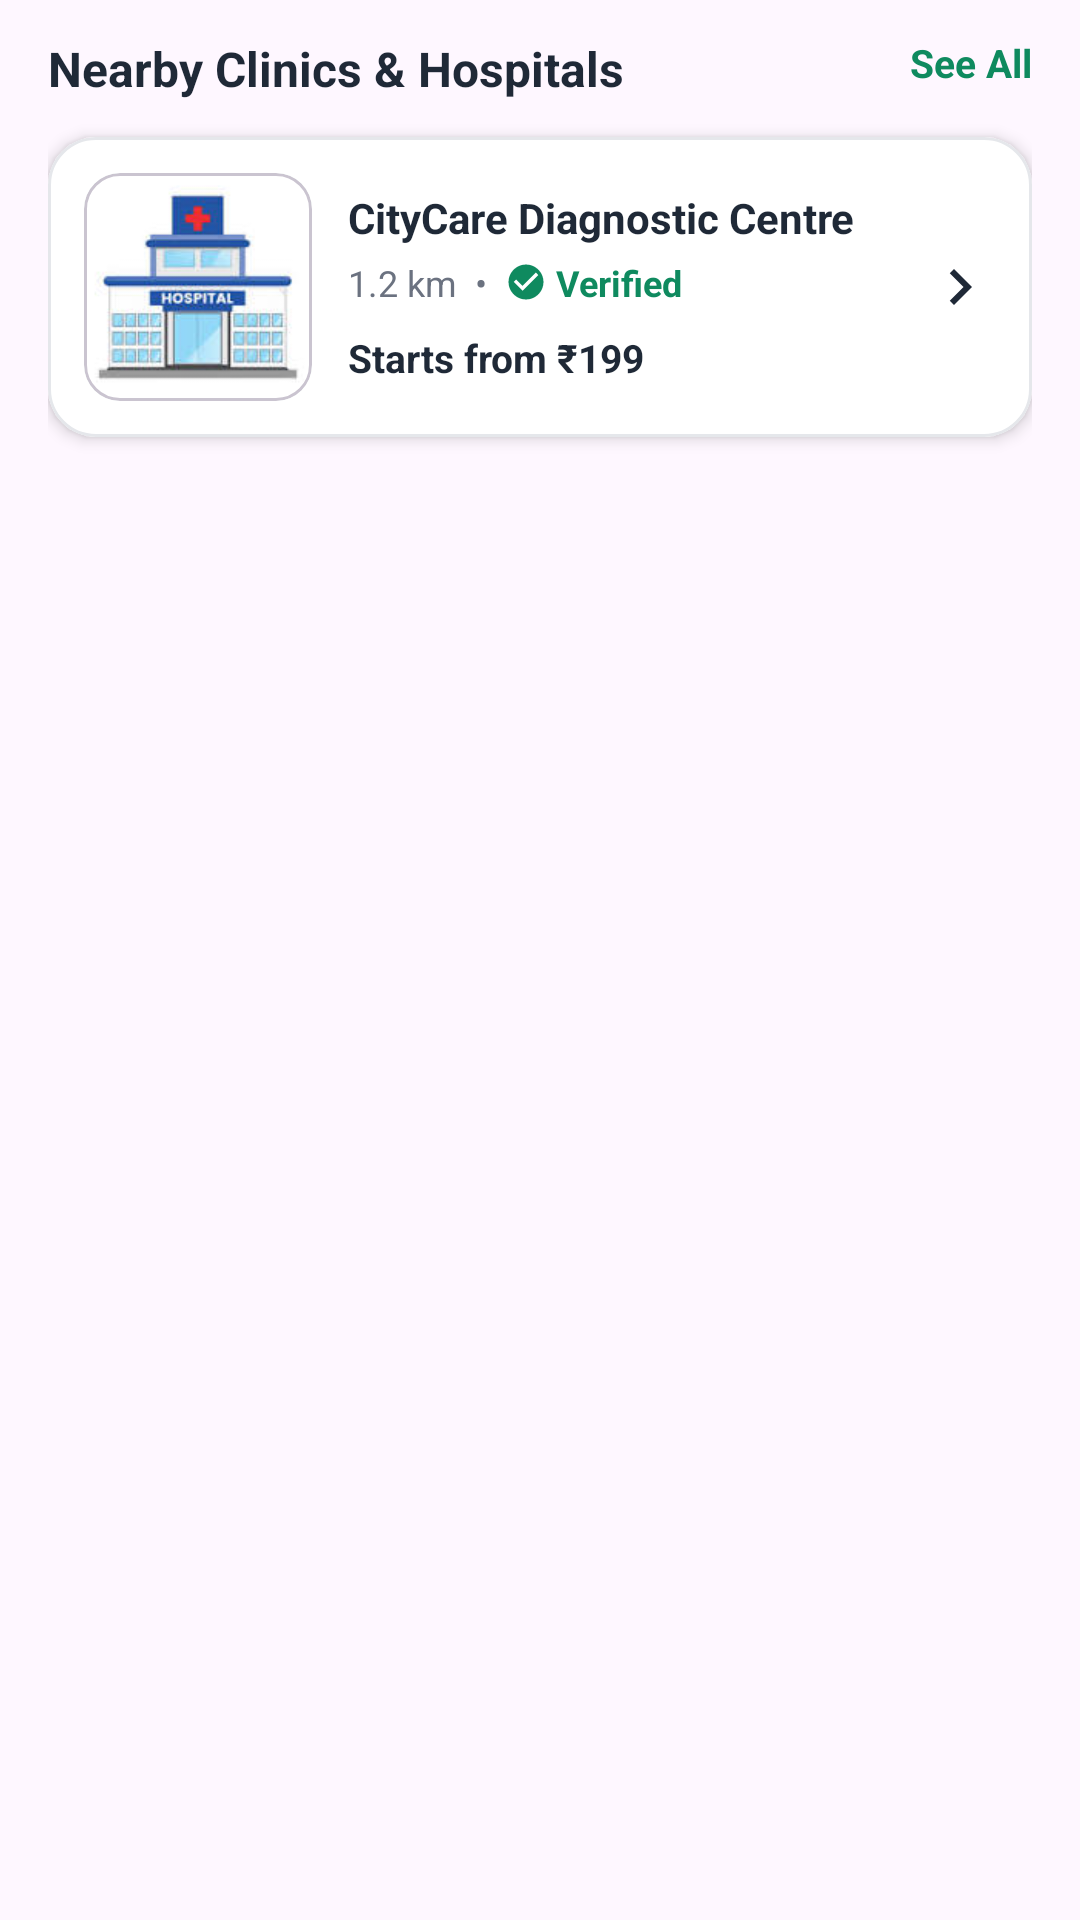

Icon bounding boxes for this 1080*1920 phone screenshot, format (x1, y1, x2, y2):
Clinic photo: (84, 173, 312, 401)
Open clinic: (950, 269, 972, 305)
